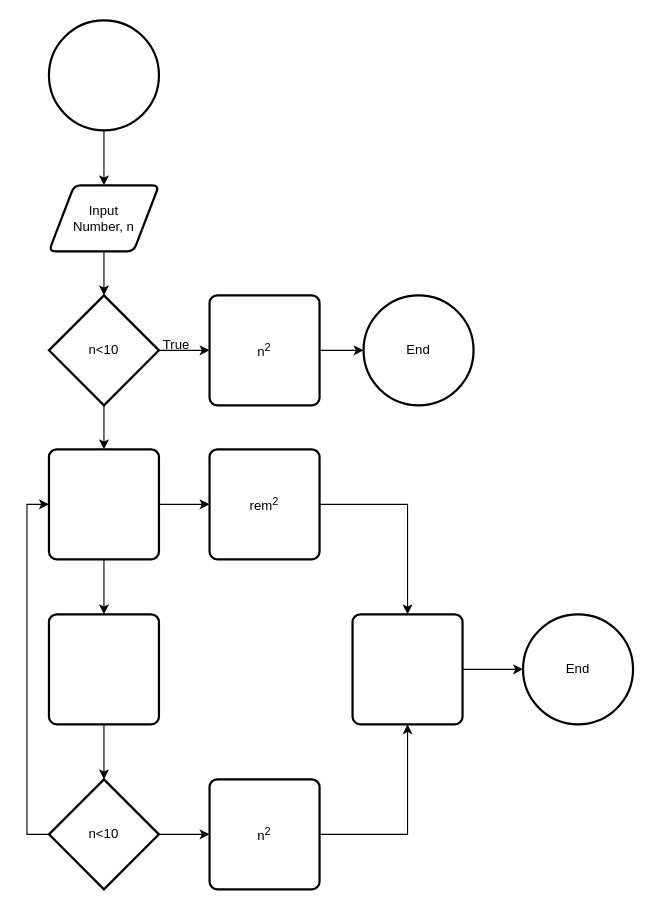
Some shapes in this 653 by 909 pixel diagram are drawn without their labels. The centre of each missing label's shape, as x and y in pixels:
n = n/10: the point at 103,669
rem = n%10: the point at 103,504
Start: the point at 103,75
sum = rem 2 +n 2: the point at 407,669
